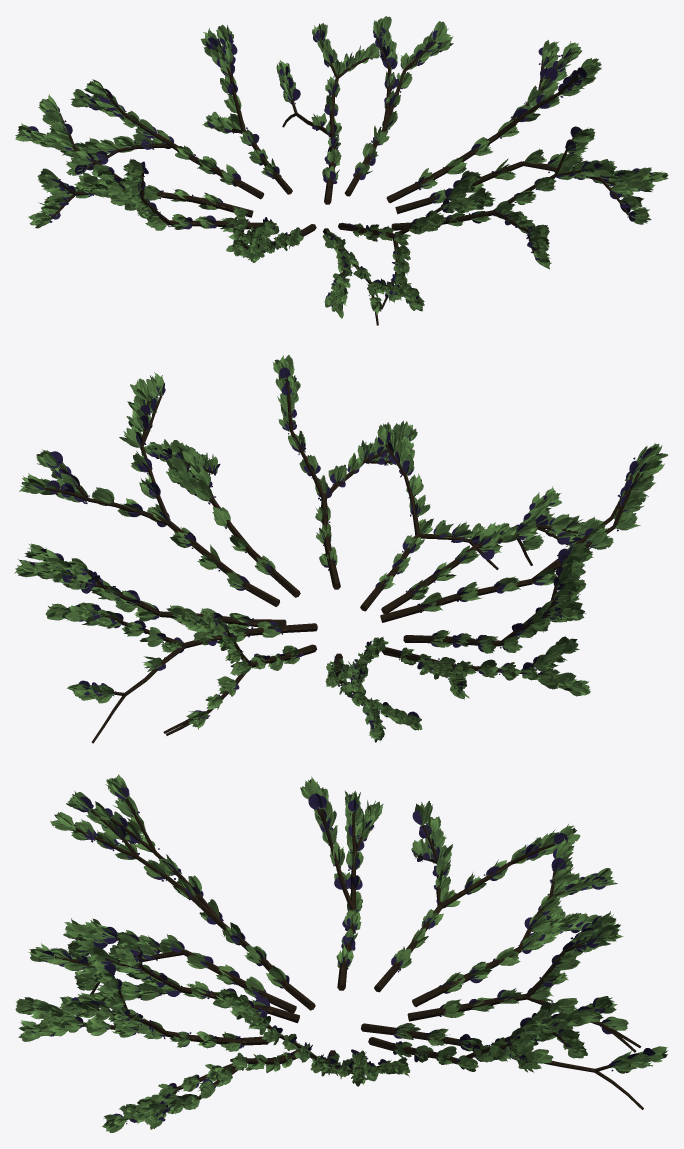
File: bilberry_low_v01.fbx
3 views of the same model, one above another, from view 1: azimuth 30°, elevation 25°; view 2: azimuth 150°, elevation 25°; view 3: azimuth 270°, elevation 25° (orthographic). The views are drawn at different scales.
Parts seen in each view (by area): view 1: bilberry_low_v01; view 2: bilberry_low_v01; view 3: bilberry_low_v01.
Boxes of the visible parts, <box> form: bilberry_low_v01: <box>15,16,668,325</box>; bilberry_low_v01: <box>14,355,667,743</box>; bilberry_low_v01: <box>15,774,667,1132</box>.
Bounding box in the file's own units: 87.93 × 27.08 × 83.14.
2 materials, 2 textured.
